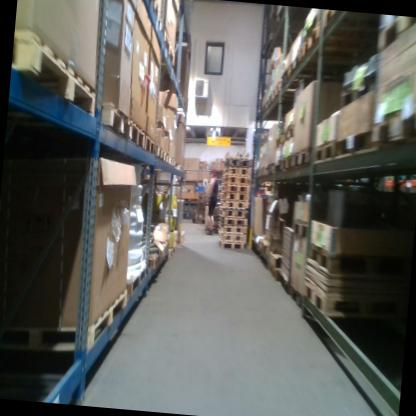pallet: (7, 278, 129, 358), (8, 30, 102, 122), (306, 240, 383, 279), (302, 277, 369, 318), (334, 123, 376, 172), (370, 109, 409, 153), (338, 71, 378, 113), (97, 99, 133, 145), (122, 264, 149, 302), (301, 20, 323, 63), (314, 135, 339, 170), (127, 118, 147, 153), (287, 42, 302, 88), (293, 144, 314, 175), (161, 30, 178, 68), (291, 217, 312, 240), (217, 233, 247, 248), (221, 173, 253, 187), (222, 165, 252, 179), (287, 288, 306, 309), (277, 153, 294, 176), (220, 184, 249, 196), (218, 207, 247, 219), (323, 11, 339, 32), (220, 191, 248, 203), (223, 156, 253, 167), (147, 250, 163, 270), (218, 226, 247, 236), (219, 218, 247, 228), (268, 264, 283, 282), (283, 126, 297, 145), (220, 200, 248, 209), (145, 136, 155, 161), (219, 241, 244, 251), (157, 142, 166, 165), (164, 152, 170, 166), (176, 164, 184, 173)
pallet_truck: (191, 188, 203, 226)
